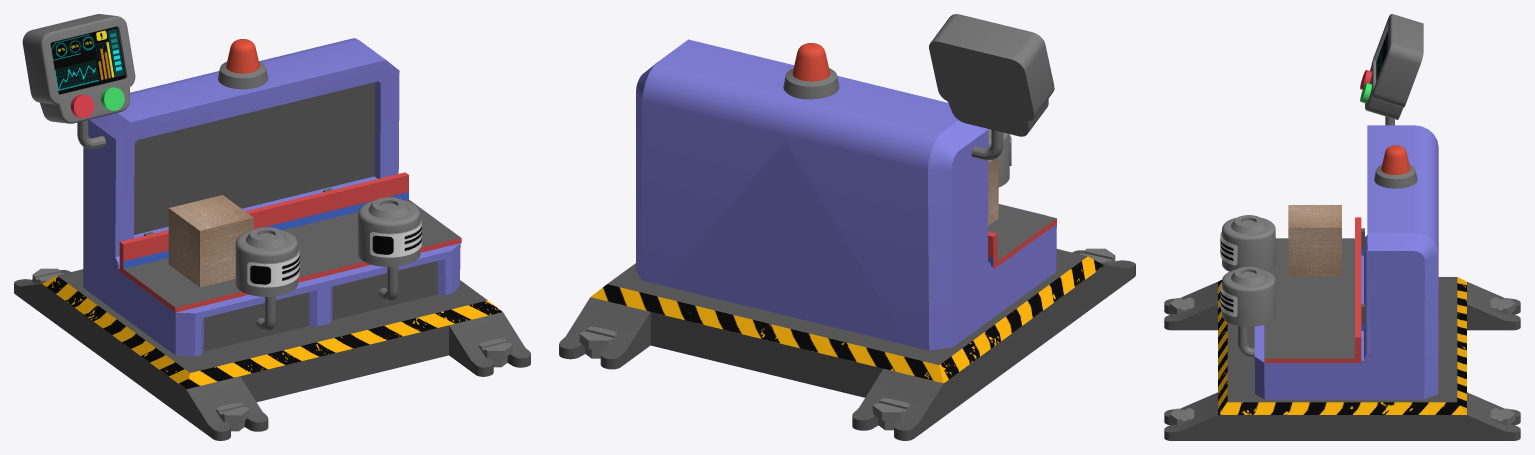
File: etiketMakina.fbx
3 views of the same model, side by side, from view 1: azimuth 30°, elevation 25°; view 2: azimuth 150°, elevation 25°; view 3: azimuth 270°, elevation 25° (orthographic). The views are drawn at different scales.
Visible parts, largest first — view 1: govde.002, makinaAlt.002, uzunRay2, ekran, ayak.002, kutu, etiketKafa, etiketKafa2, lamba; view 2: govde.002, makinaAlt.002, ekran, ayak.002, uzunRay2, lamba, kutu, etiketKafa; view 3: govde.002, makinaAlt.002, uzunRay2, ayak.002, ekran, kutu, etiketKafa2, etiketKafa, lamba.
Boxes of the visible parts, x1,y1,x2,y2 form: govde.002: [83, 38, 460, 356]; makinaAlt.002: [42, 269, 502, 418]; uzunRay2: [119, 172, 461, 312]; ekran: [22, 14, 135, 149]; ayak.002: [14, 268, 530, 440]; kutu: [168, 195, 253, 287]; etiketKafa: [235, 227, 299, 296]; etiketKafa2: [358, 197, 421, 266]; lamba: [218, 39, 267, 89]; govde.002: [636, 39, 1056, 350]; makinaAlt.002: [590, 249, 1104, 416]; ekran: [929, 14, 1054, 160]; ayak.002: [559, 248, 1135, 440]; uzunRay2: [988, 204, 1056, 269]; lamba: [783, 43, 839, 99]; kutu: [988, 156, 998, 225]; etiketKafa: [988, 129, 1011, 187]; govde.002: [1254, 125, 1438, 399]; makinaAlt.002: [1218, 277, 1466, 440]; uzunRay2: [1264, 217, 1364, 362]; ayak.002: [1164, 282, 1520, 440]; ekran: [1365, 14, 1423, 125]; kutu: [1288, 205, 1341, 276]; etiketKafa2: [1220, 266, 1275, 326]; etiketKafa: [1220, 215, 1275, 271]; lamba: [1374, 145, 1417, 188].
Size of the model in its own units: 1343 by 1138 by 1325.
